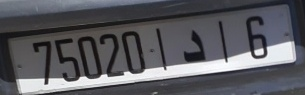0: (122, 29, 146, 77), (77, 36, 99, 78)
2: (99, 32, 123, 79)
5: (54, 37, 81, 84)
6: (243, 14, 271, 63)
7: (30, 39, 53, 86)
d: (181, 23, 209, 64)
